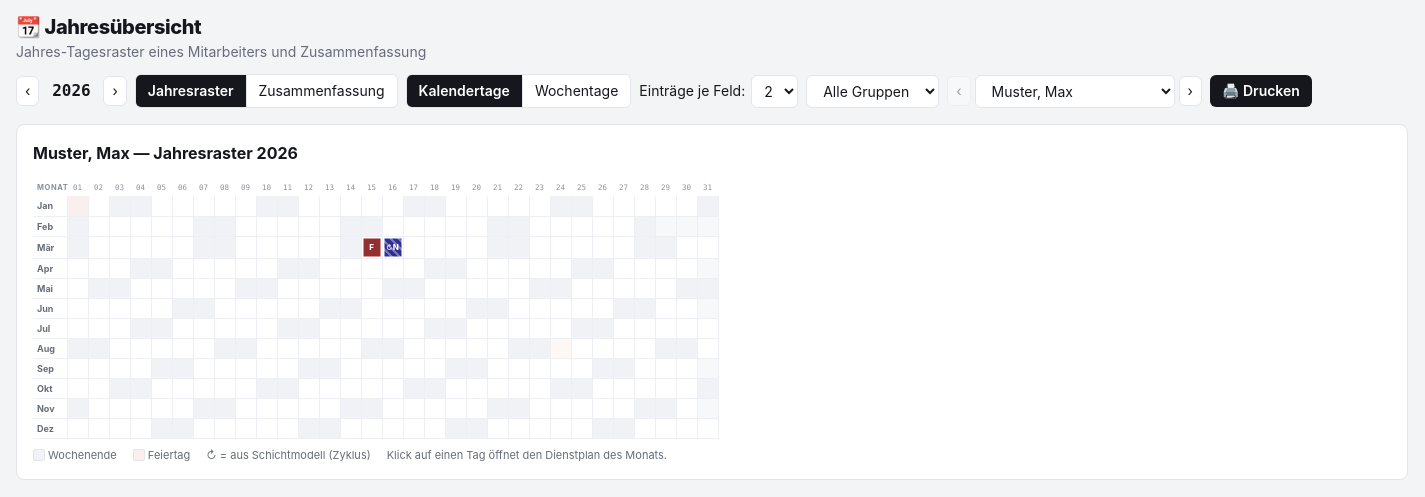
Test: Jahresübersicht — Jahresraster (V-8, Spec 4.4) › MA-Navigation: ›/‹ wechseln den Mitarbeiter, Dropdown bleibt synchron
This screenshot has width=1425, height=497.
Expected: the table with test id "jahresraster" is shown, [33,181,718,439]
Expected: the heading "Muster, Max — Jahresraster 2026" is shown, [33,143,298,163]
Click the button named "Nächster Mitarbeiter".
click(1190, 91)  # box [1179,76,1202,106]
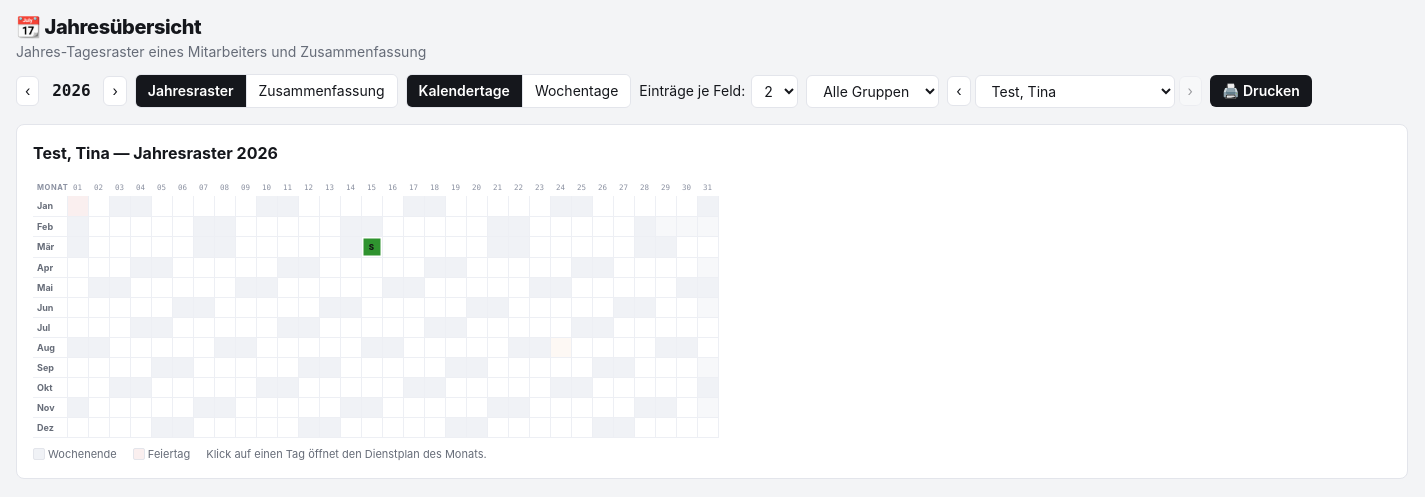
Expected: the heading "Test, Tina — Jahresraster 2026" is shown, [33,143,278,163]
Expected: the button named "Nächster Mitarbeiter" is disabled, [1179,76,1202,106]
Click the button named "Vorheriger Mitarbeiter".
click(959, 91)  # box [947,76,971,106]
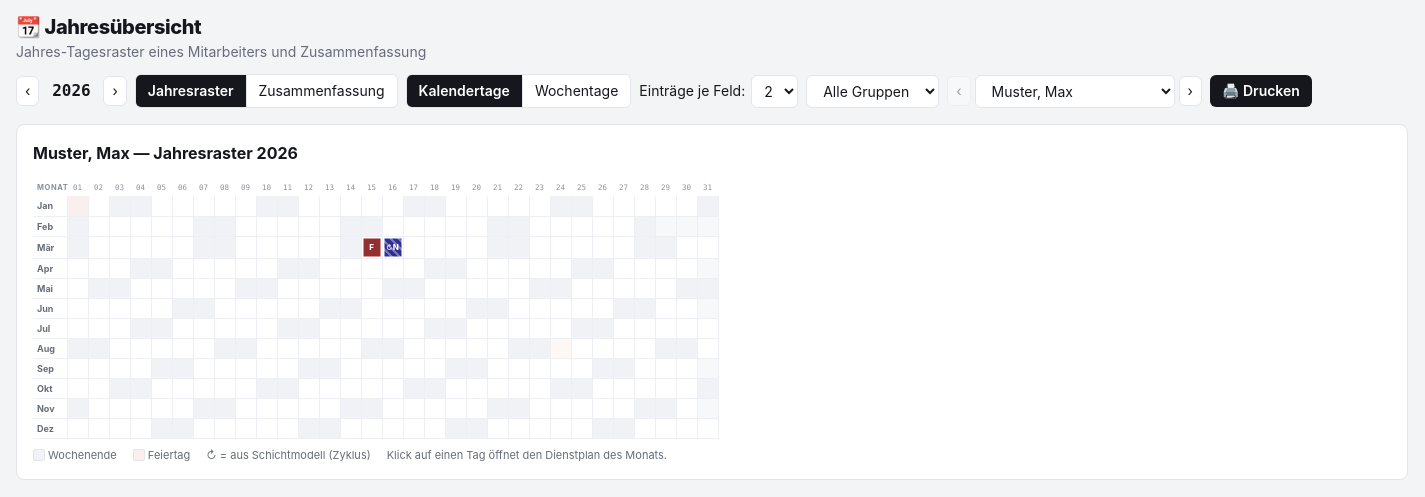
Expected: the heading "Muster, Max — Jahresraster 2026" is shown, [33,143,298,163]
